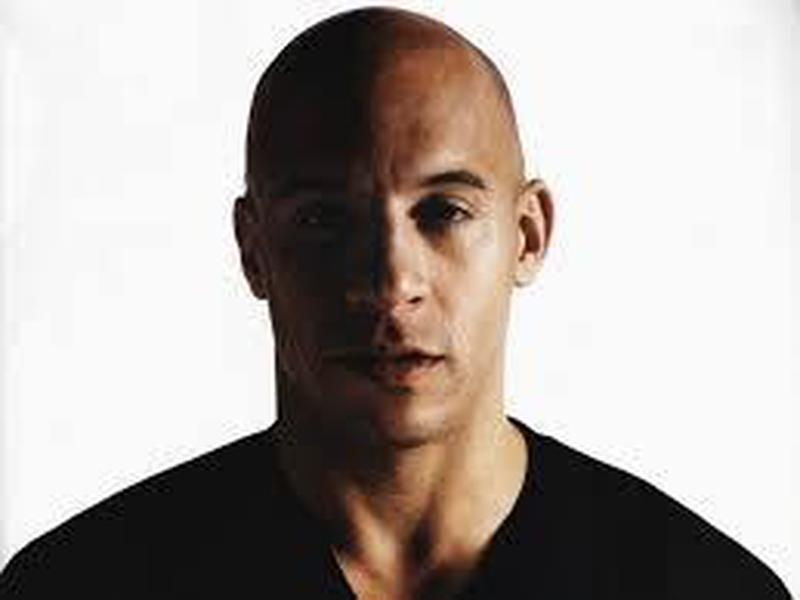without_mask: (249, 57, 512, 453)
